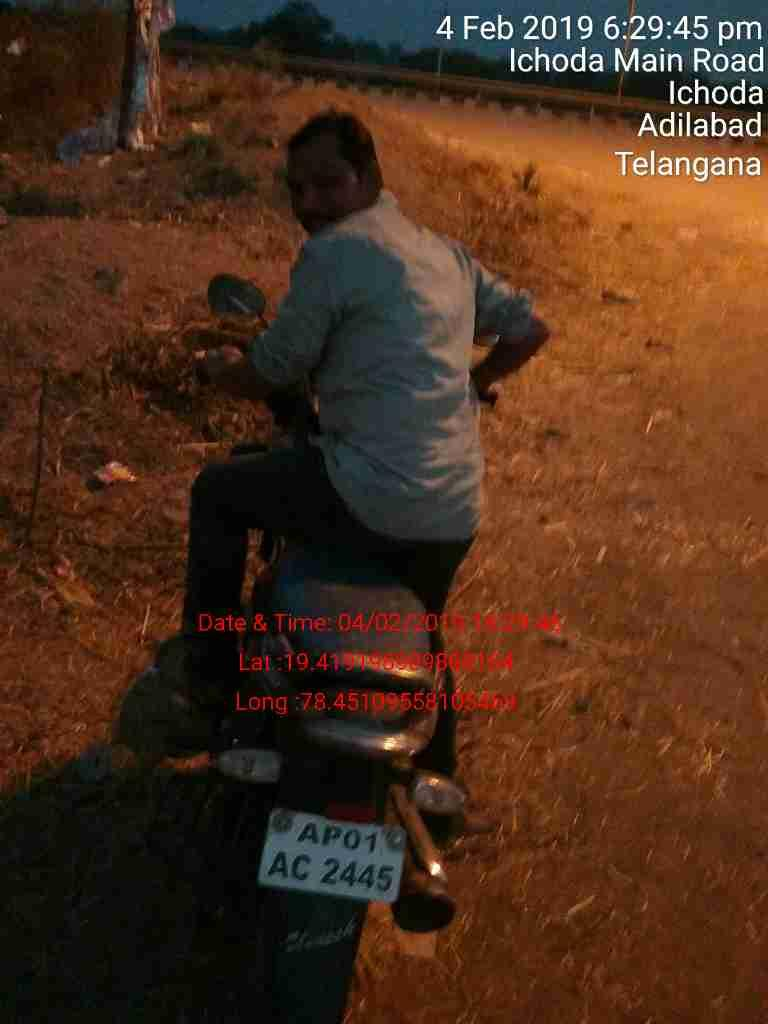plate: (258, 794, 413, 914)
